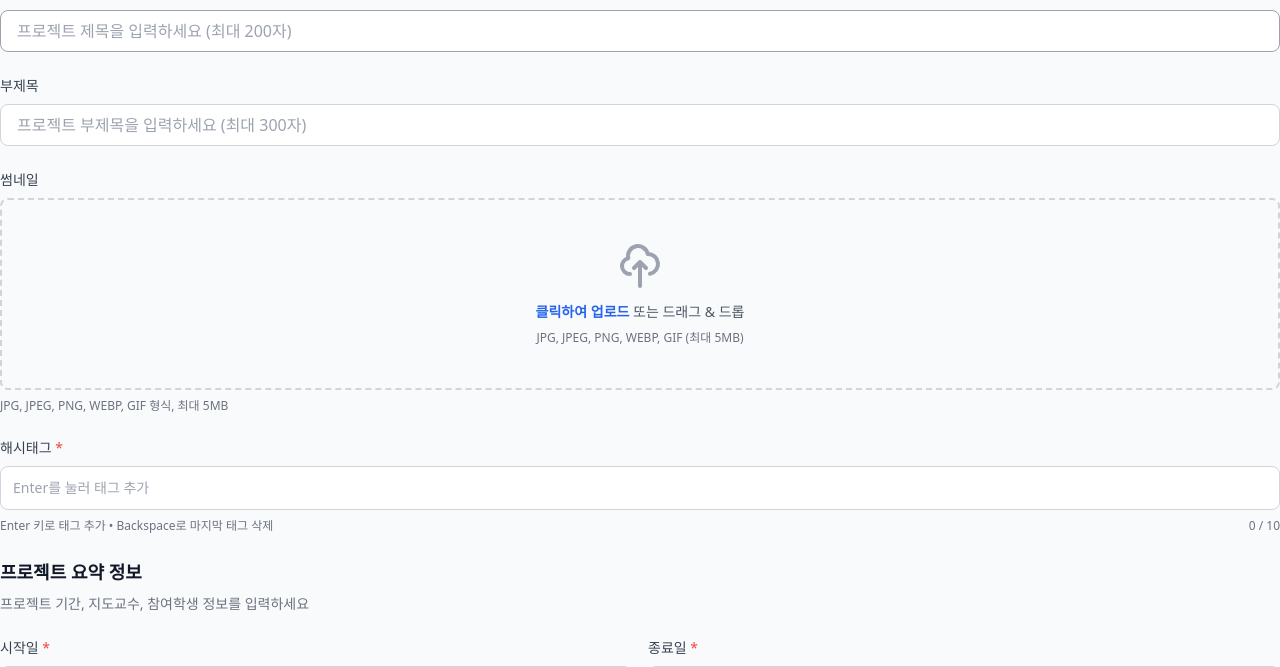
Test: ProjectMetadataForm › Required Field Validation › should show error when dates are missing
This screenshot has width=1280, height=667.
Note: Fill title but not dates (which are required for summary)
In the field labelled "제목 *": point(640, 31) x1=0 y1=10 x2=1279 y2=52, type "테스트 프로젝트"
(page scrolled)
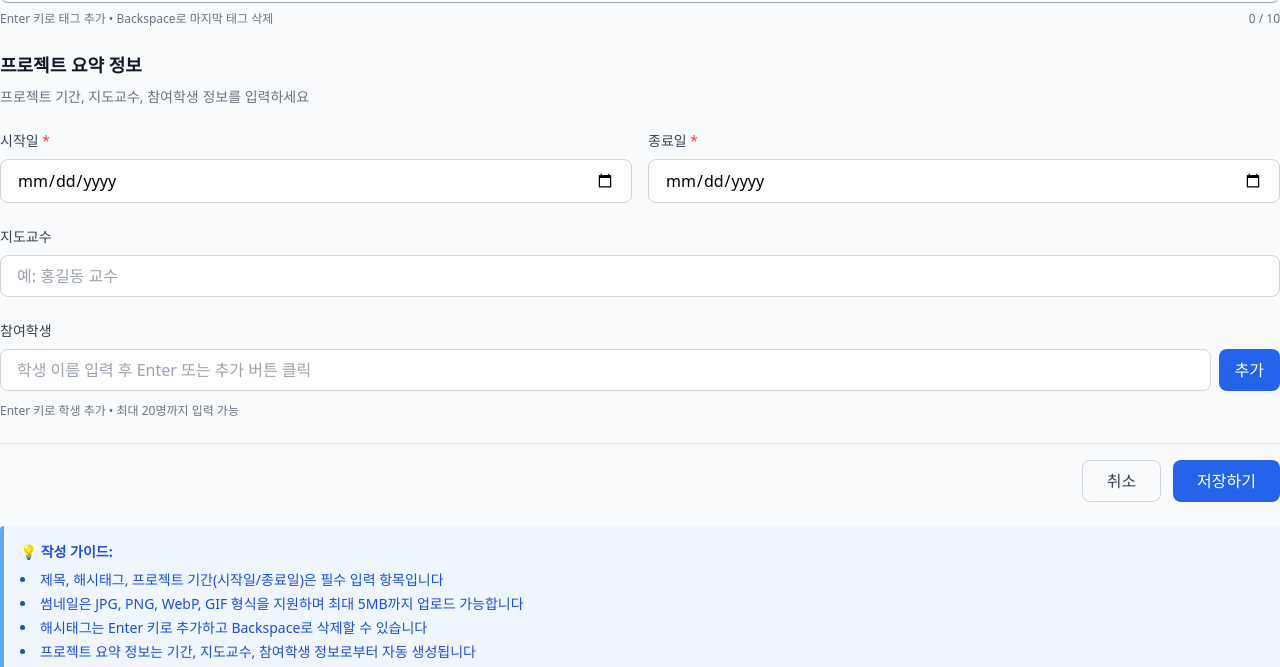
Click the button "저장하기": point(1227, 481) x1=1173 y1=460 x2=1279 y2=502
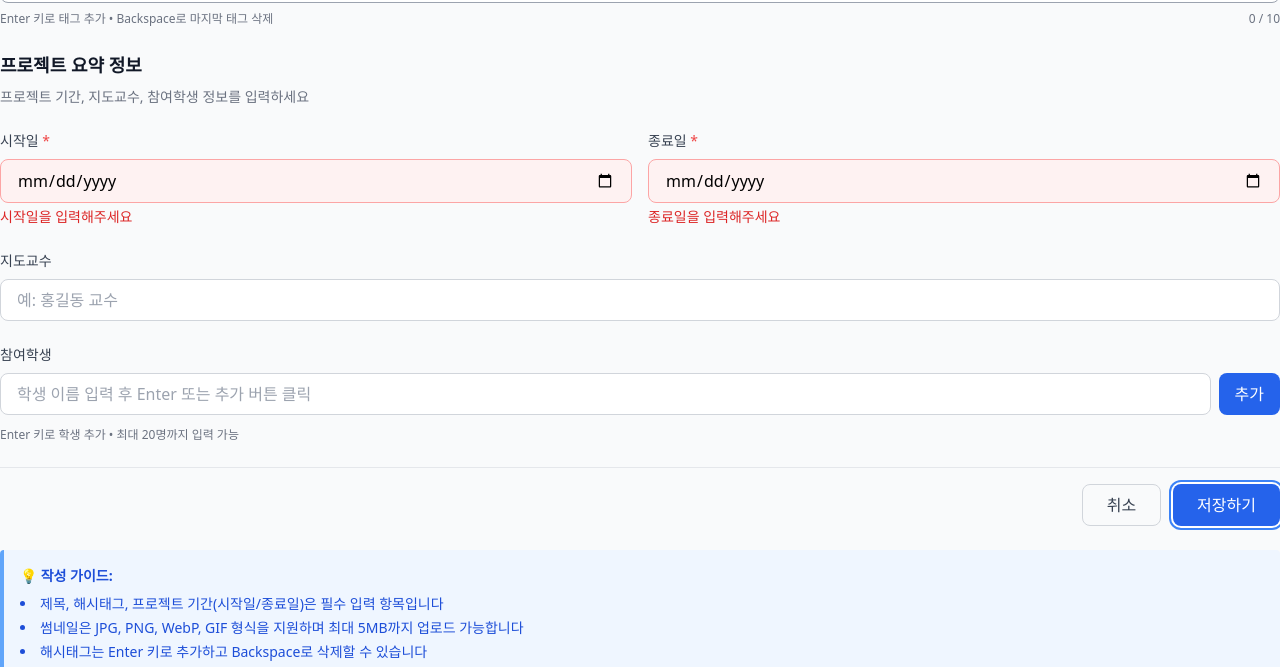
expect the text "시작일을 입력해주세요" is shown: met, box x1=0 y1=207 x2=132 y2=226
